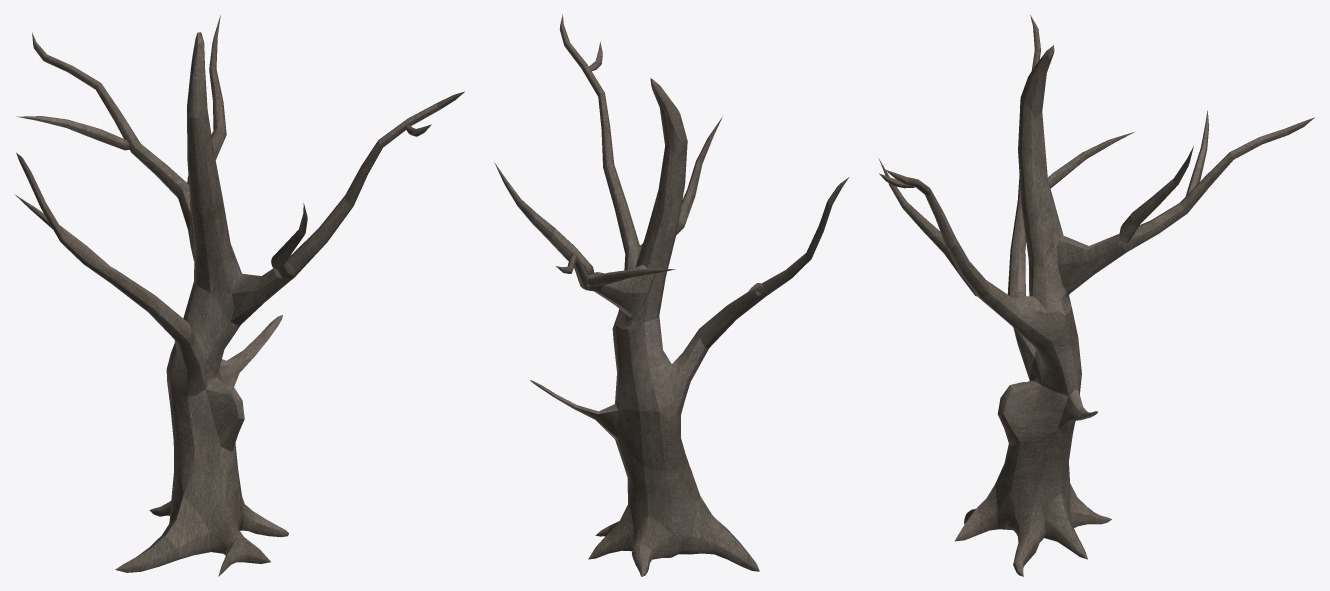
Rendered from DeadTree_03.FBX.
3 renders of one model, left to right at view 1: azimuth 30°, elevation 25°; view 2: azimuth 150°, elevation 25°; view 3: azimuth 270°, elevation 25°, orthographic. The views are drawn at different scales.
Visible parts, largest first — view 1: DeadTree3; view 2: DeadTree3; view 3: DeadTree3.
Part boxes in pixels (x1,y1,x2,y2): DeadTree3: [15, 15, 464, 576]; DeadTree3: [494, 14, 849, 576]; DeadTree3: [878, 15, 1314, 576].
Size of the model in its own units: 20.88 by 27.02 by 21.57.
1 material, 1 textured.
